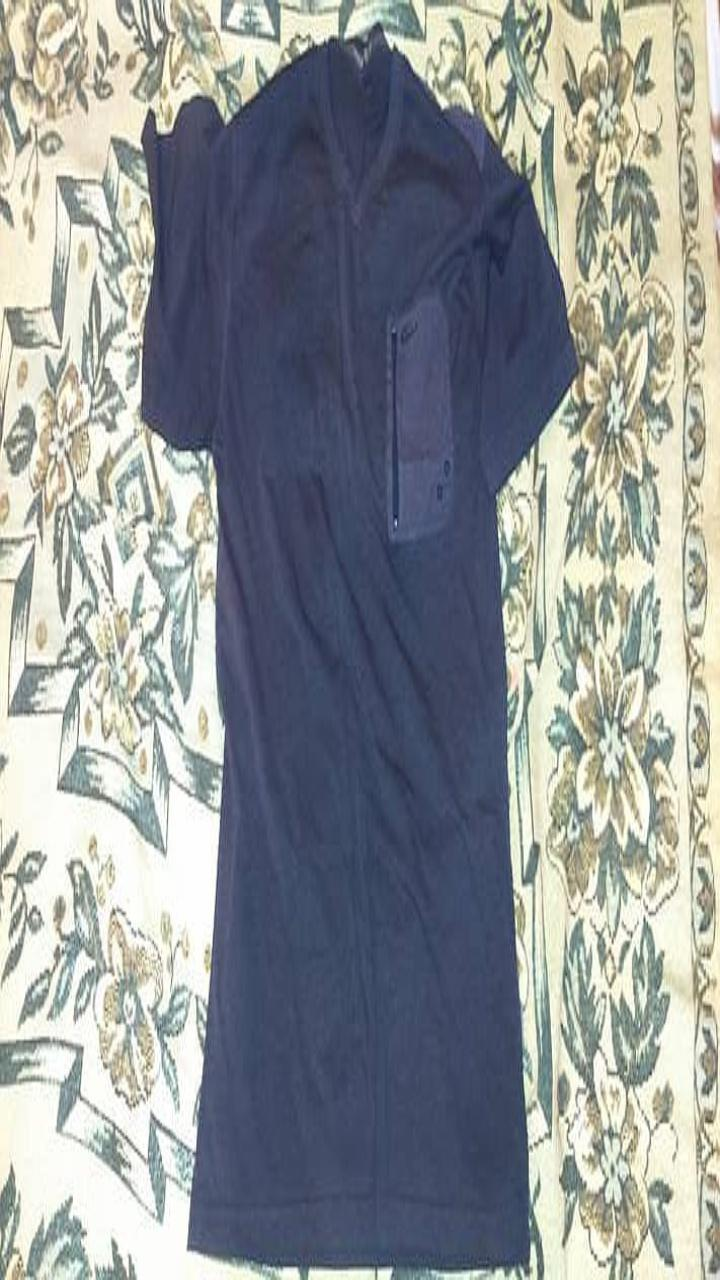T-Shirt: (142, 23, 575, 1267)
